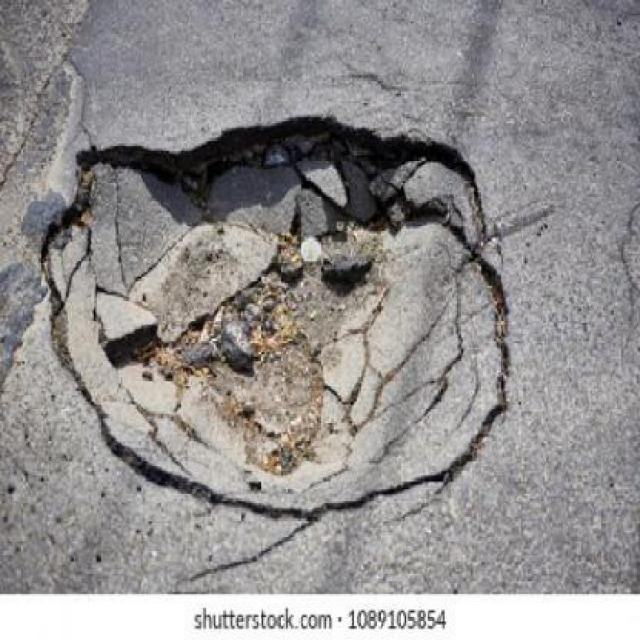Pothole: (38, 112, 512, 519)
